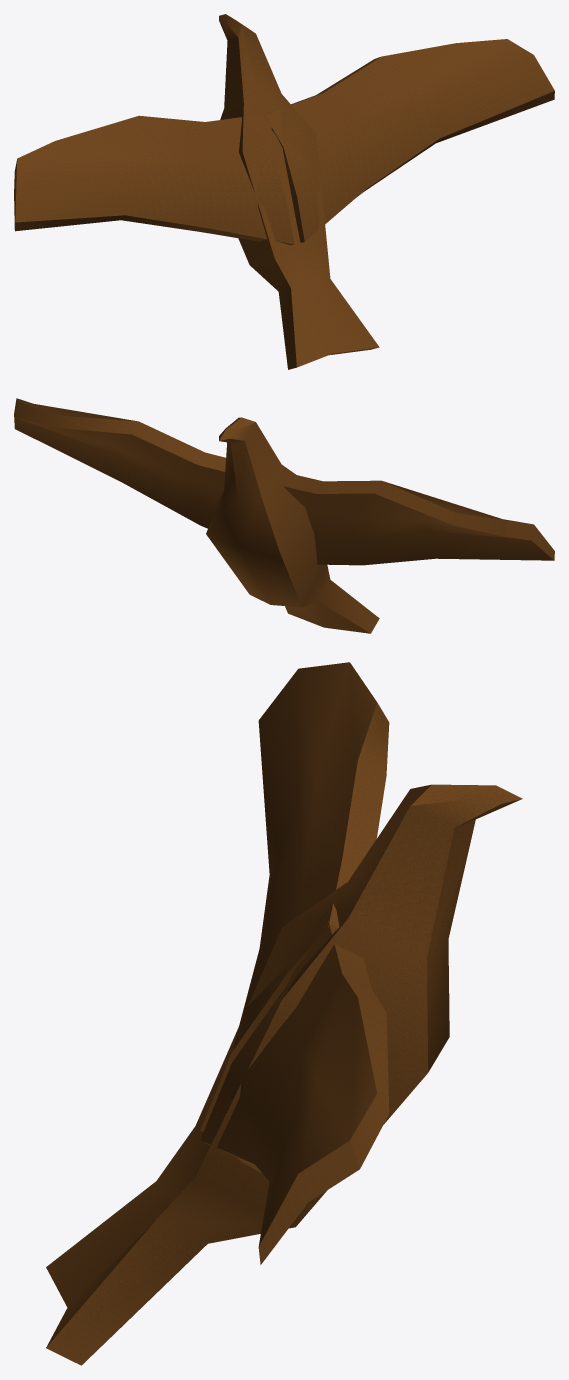
Rendered from bigvulture.gltf.
The picture shows the model from 3 angles, top to bottom: view 1: azimuth 30°, elevation 25°; view 2: azimuth 150°, elevation 25°; view 3: azimuth 270°, elevation 25°; orthographic projection. The views are drawn at different scales.
Visible parts, largest first — view 1: bigvulture; view 2: bigvulture; view 3: bigvulture.
Part boxes in pixels (x1,y1,x2,y2): bigvulture: (14,14,554,369); bigvulture: (14,398,554,633); bigvulture: (46,662,522,1365).
Size of the model in its own units: 1683 by 806 by 644.
Materials: 1 (1 with a texture image).
